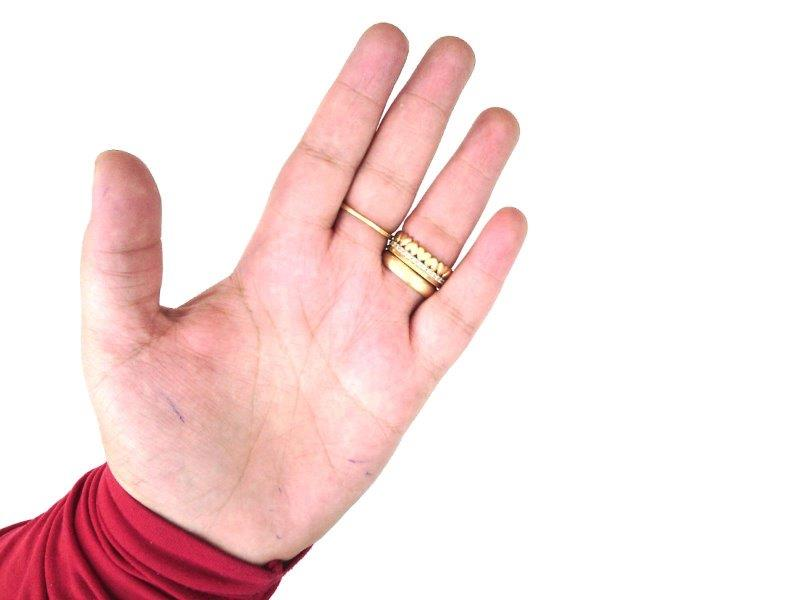hand: (81, 24, 531, 515)
